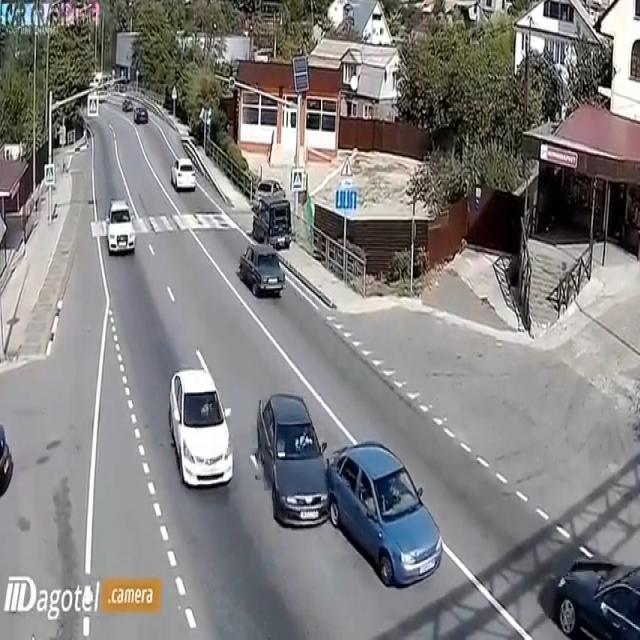Accident: (265, 399, 401, 600)
